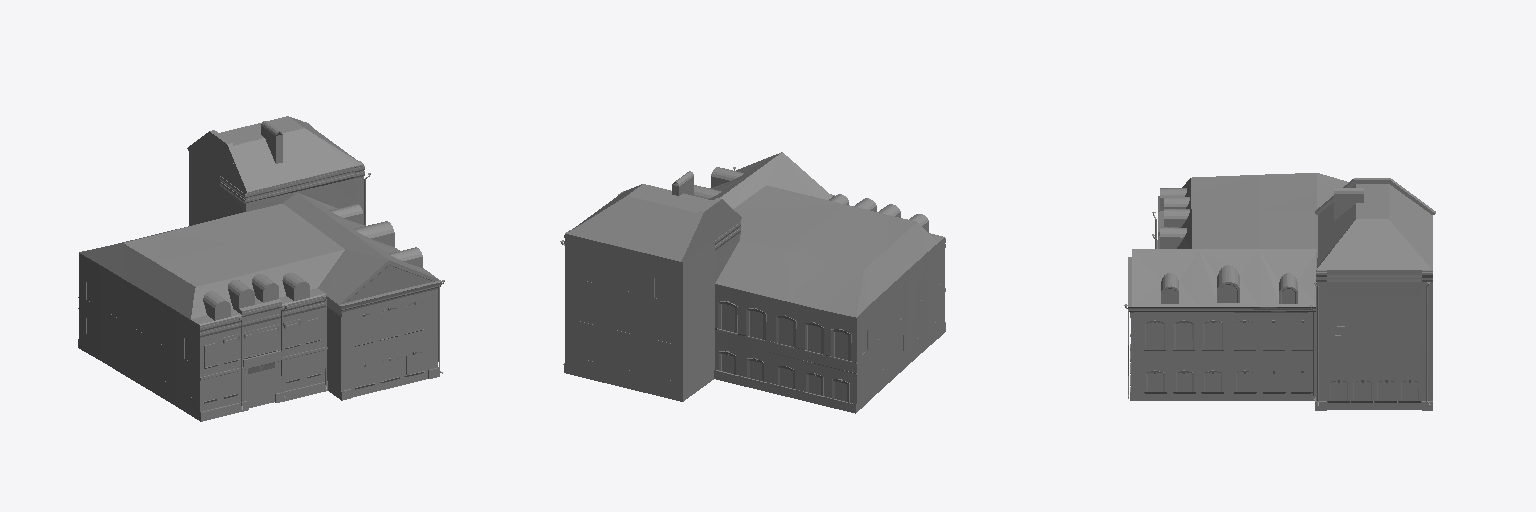
Rendered from House_1.obj.
The picture shows the model from 3 angles: view 1: azimuth 30°, elevation 25°; view 2: azimuth 150°, elevation 25°; view 3: azimuth 270°, elevation 25°; orthographic projection.
Size of the model in its own units: 3.3 by 2.19 by 3.34.